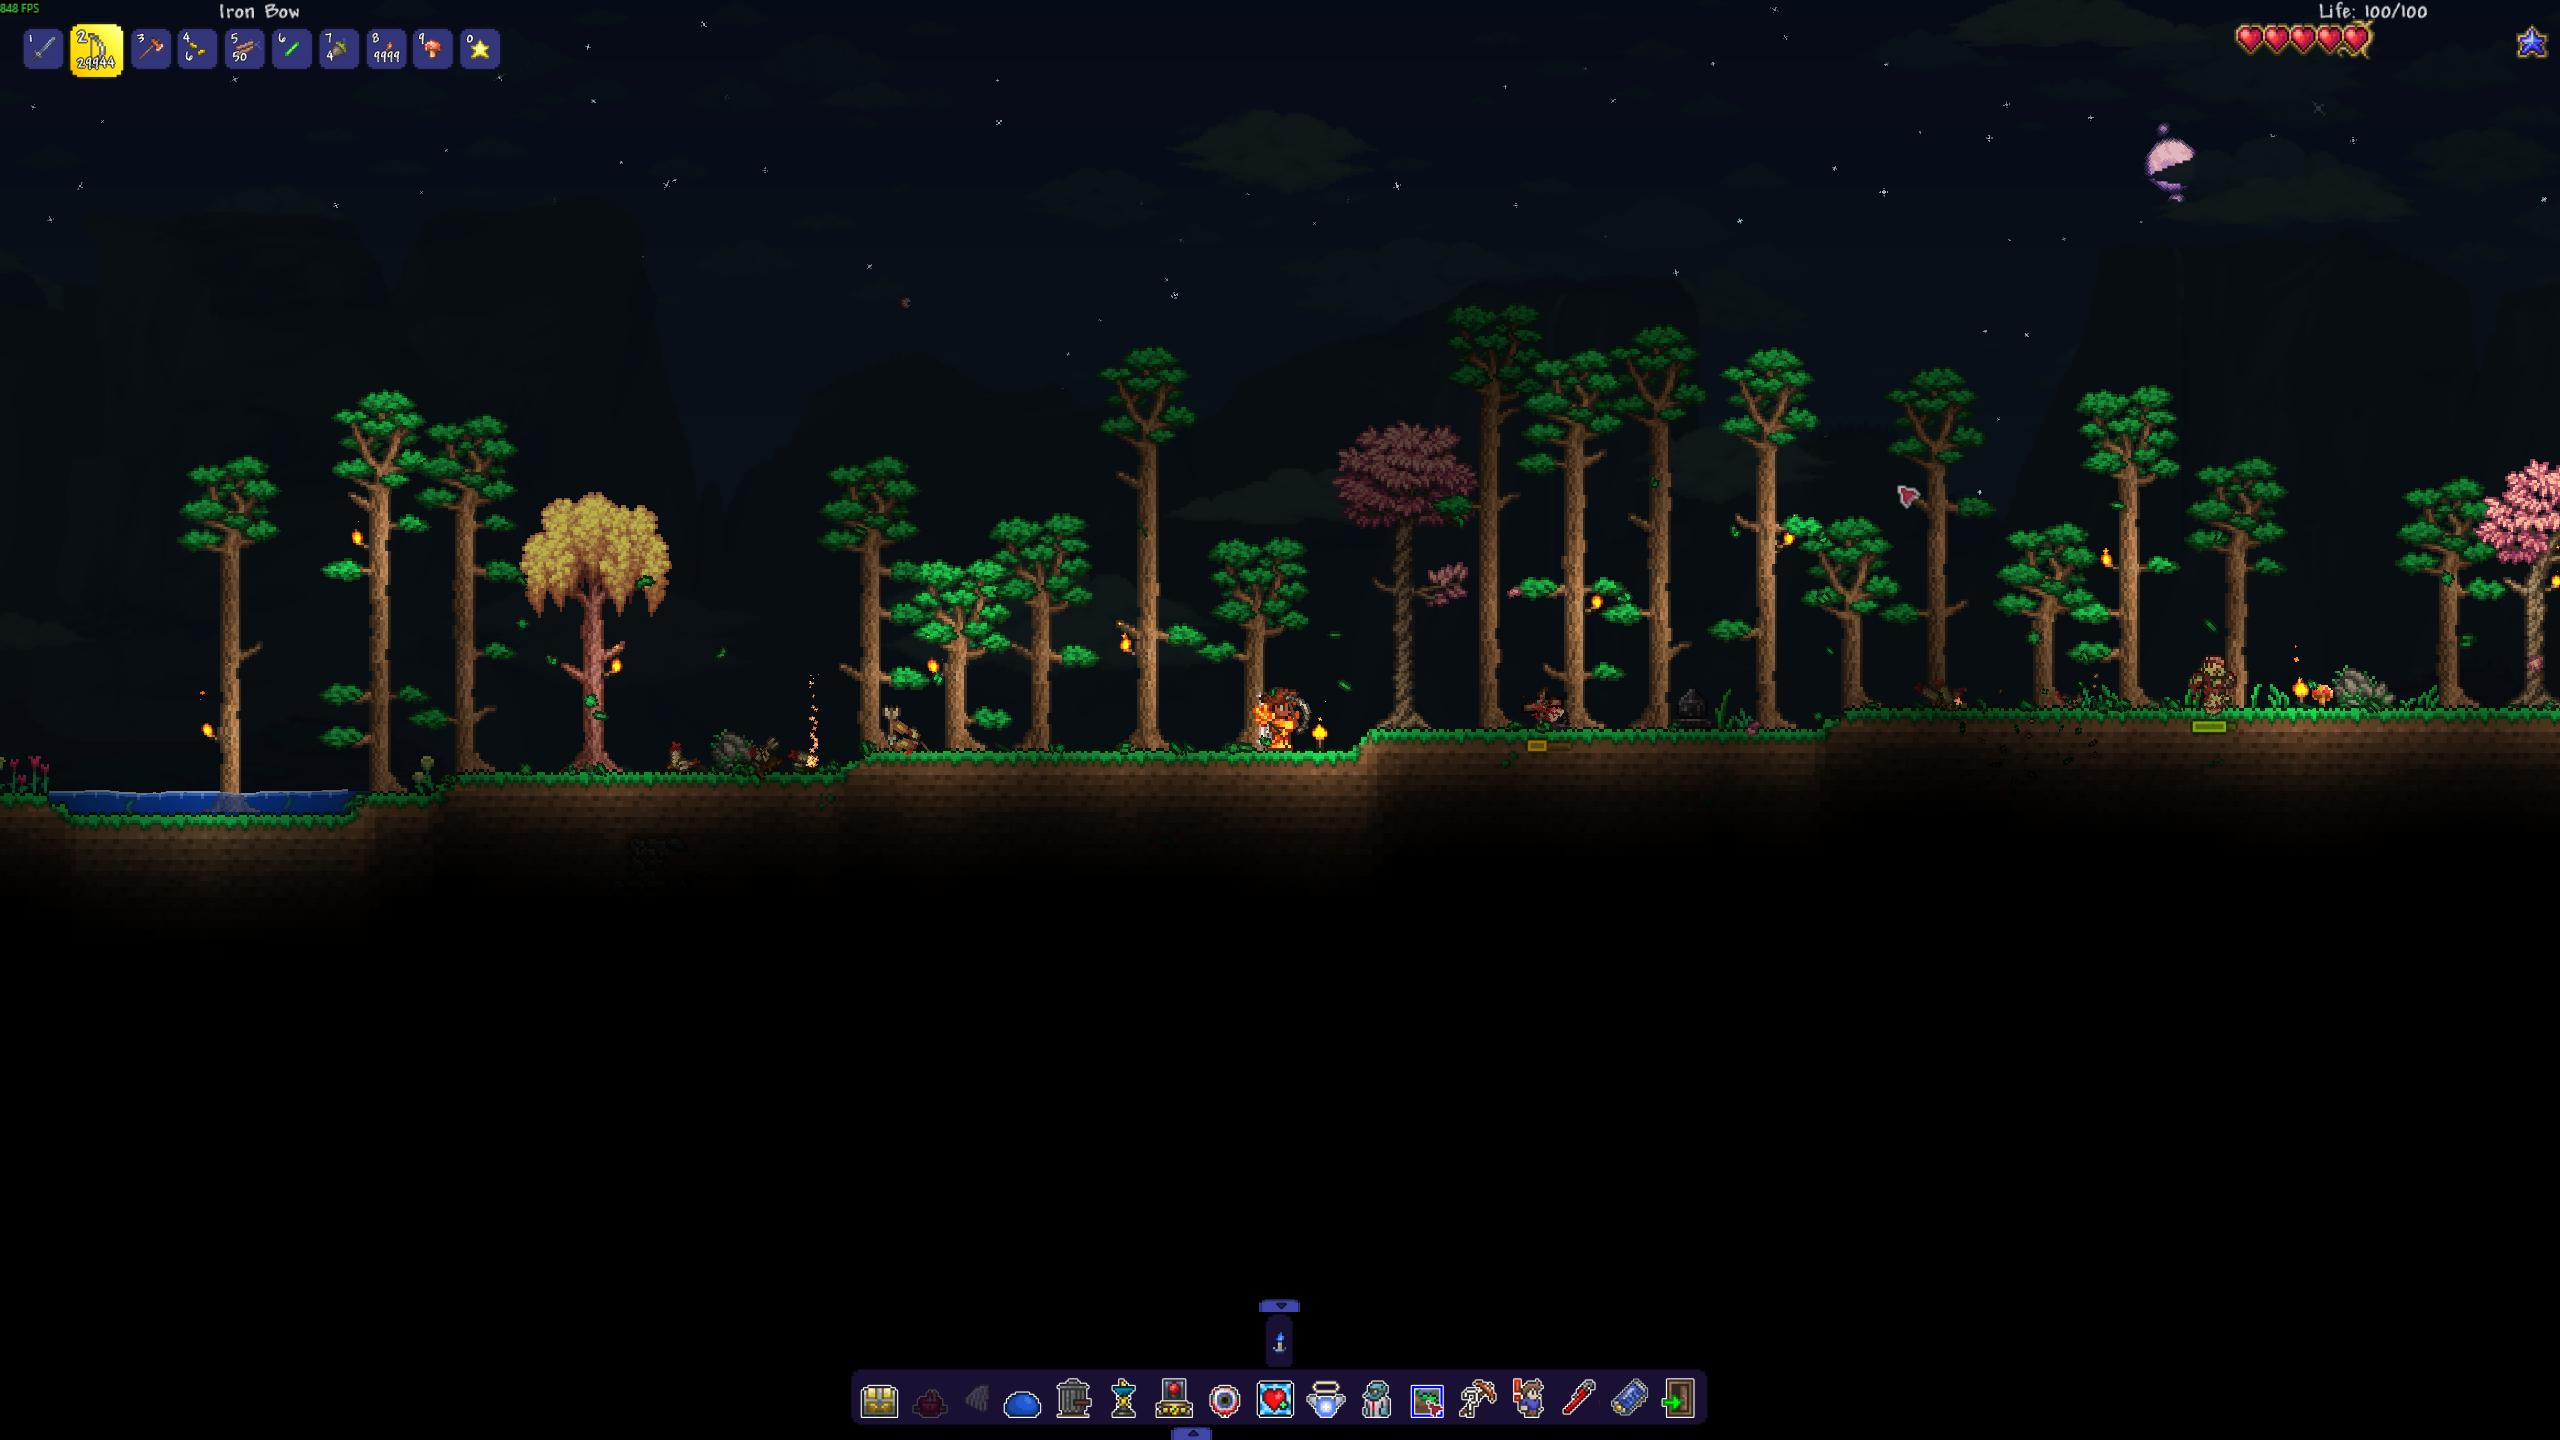Demon Eye: (1524, 686, 1572, 728)
Zombie: (2184, 647, 2240, 716)
